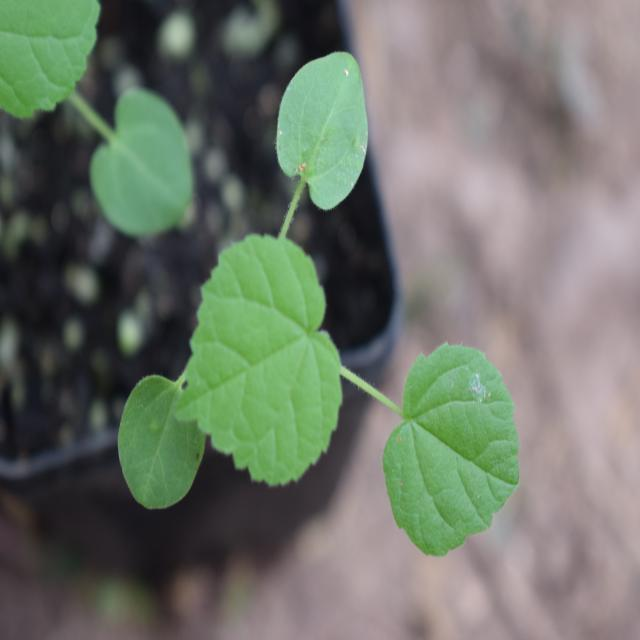abutilon theophrasti: (129, 72, 521, 564)
